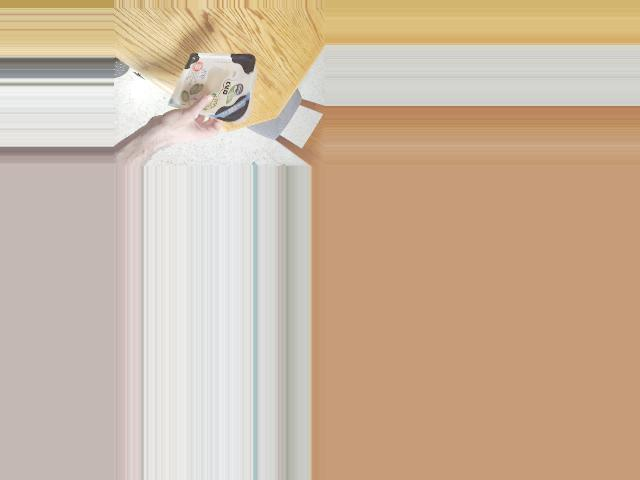cheese: (174, 59, 258, 111)
